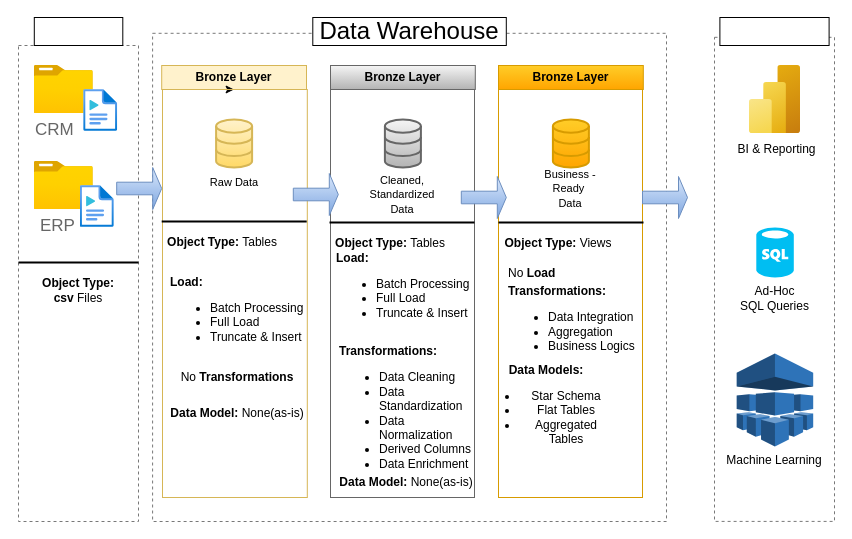
Image size: 852x539. Some labels were removed from this diagram. Each missing label, with the centre of its shape:
"Consume" goes at point (774, 31).
"Sources" goes at point (78, 31).
